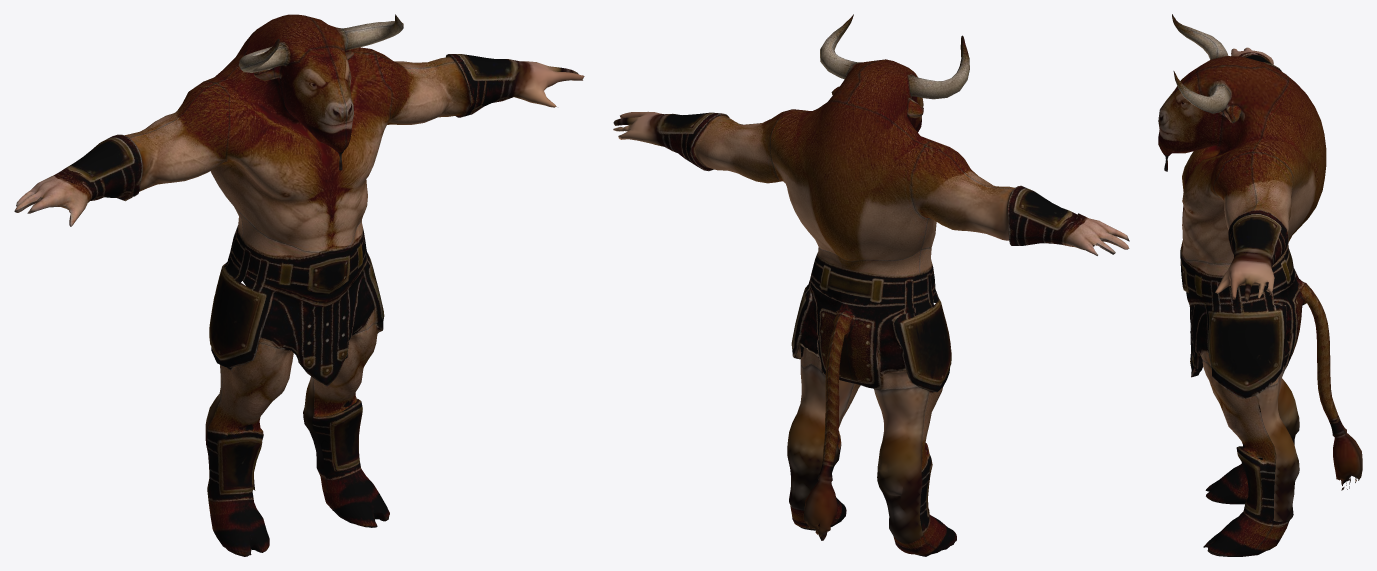
File: Minotaur.glb
The picture shows the model from 3 angles, left to right: view 1: azimuth 30°, elevation 25°; view 2: azimuth 150°, elevation 25°; view 3: azimuth 270°, elevation 25°; orthographic projection. The views are drawn at different scales.
Visible parts, largest first — view 1: Mesh0; view 2: Mesh0; view 3: Mesh0.
Boxes of the visible parts, <box> form: Mesh0: <box>14,14,584,556</box>; Mesh0: <box>613,14,1129,556</box>; Mesh0: <box>1158,14,1362,556</box>.
Size of the model in its own units: 1.88 by 1.69 by 0.6463.
Materials: 1 (1 with a texture image).
